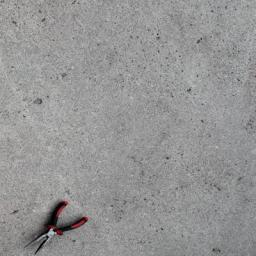FOD: (25, 196, 91, 256)
